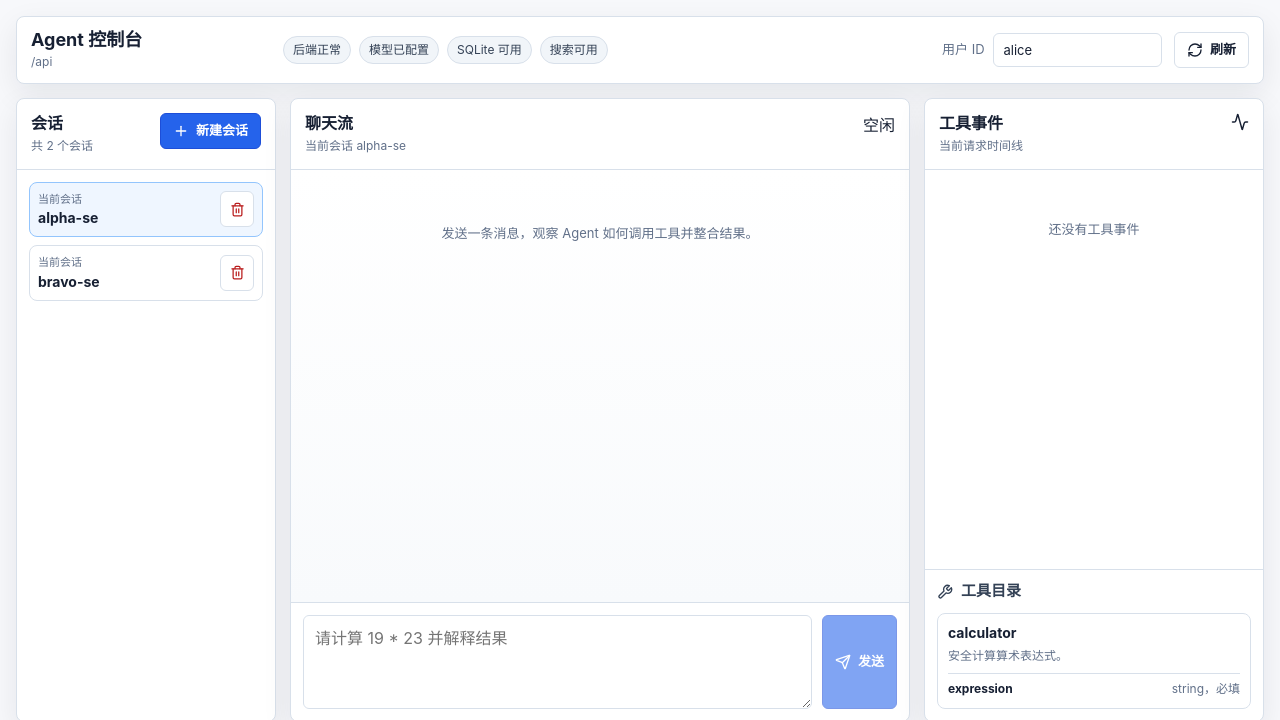
Test: Agent 控制台 › 其他会话流式更新不会重启当前会话的历史加载
Expected: the text "alpha-se" is shown, top-left (38, 209), bottom-right (98, 226)
In the text box named "聊天输入": (558,662) top-left (303, 615), bottom-right (812, 709), type "A 会话问题"
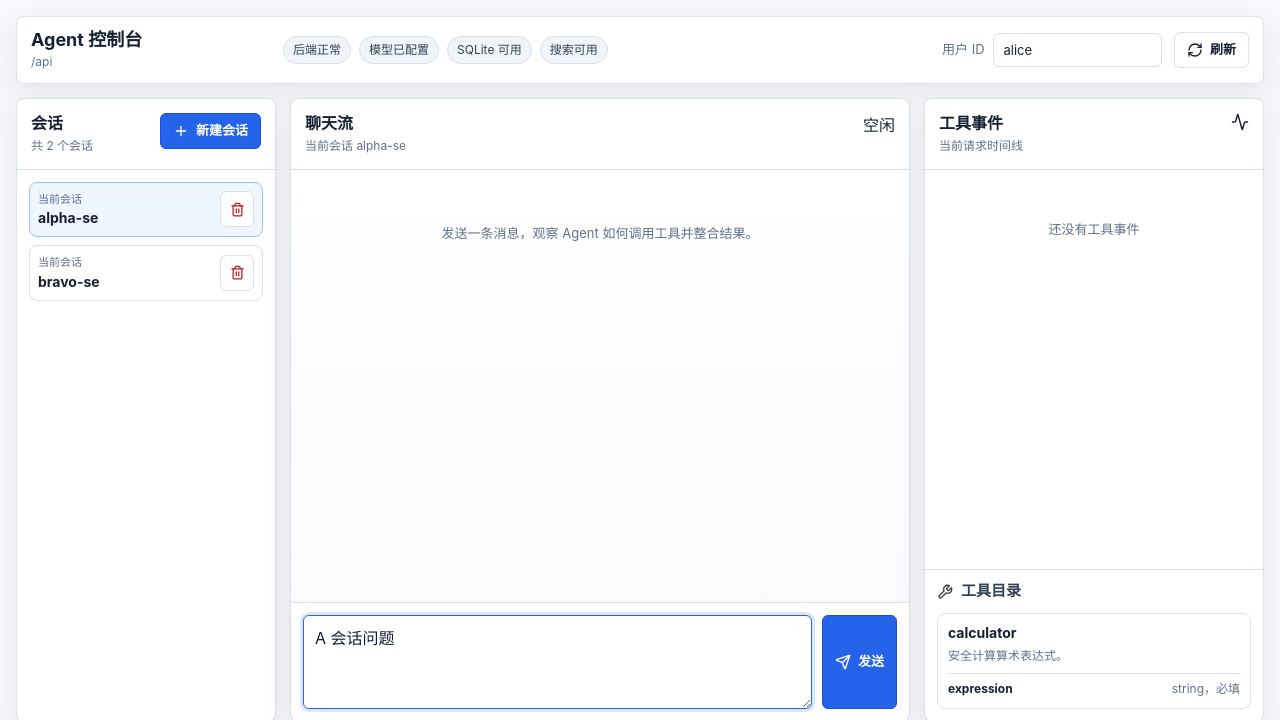
Click the button "发送": (860,662) top-left (822, 615), bottom-right (897, 709)
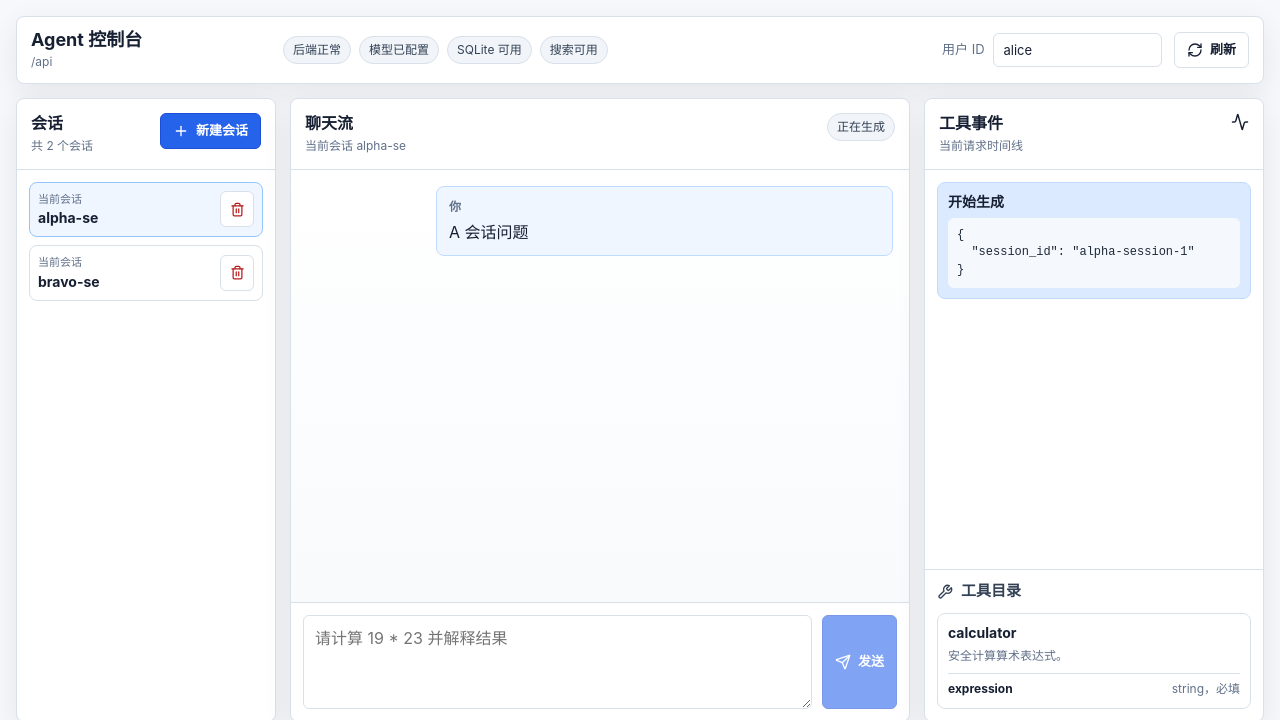
Click the text "bravo-se": (69,281) top-left (38, 273), bottom-right (100, 290)
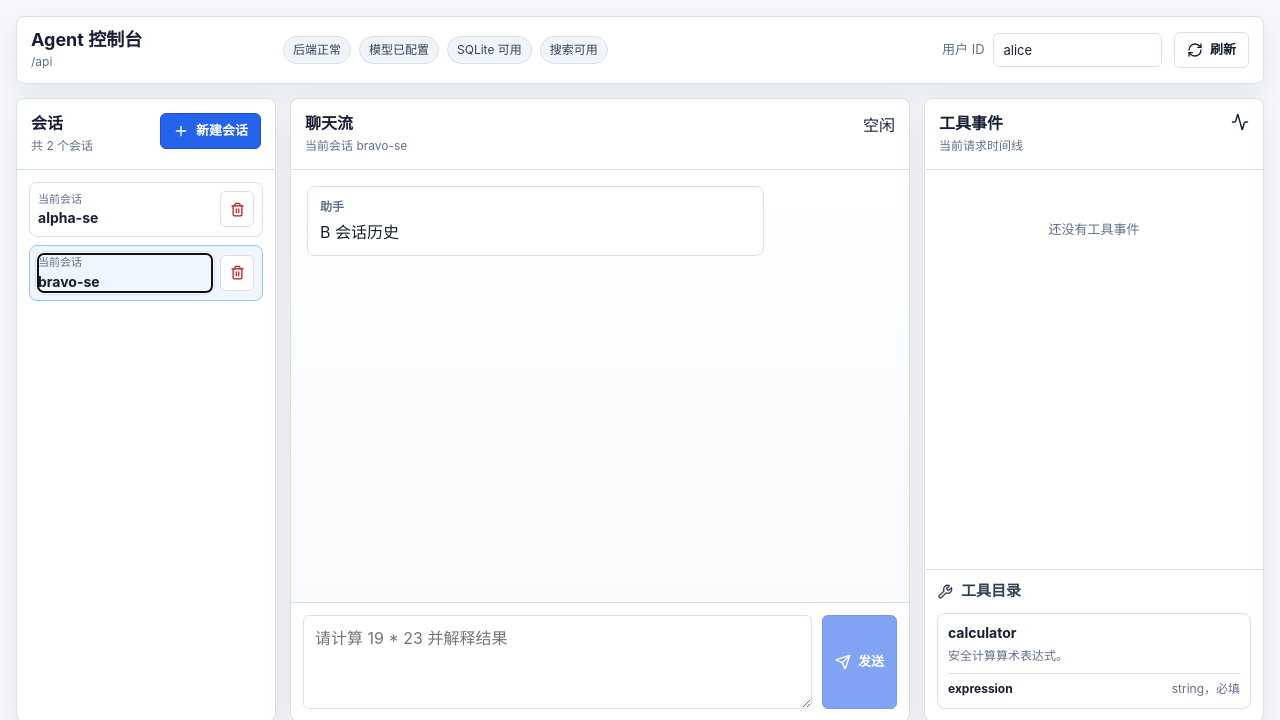
Now the text "B 会话历史" is shown, box top-left (320, 222), bottom-right (399, 242)
